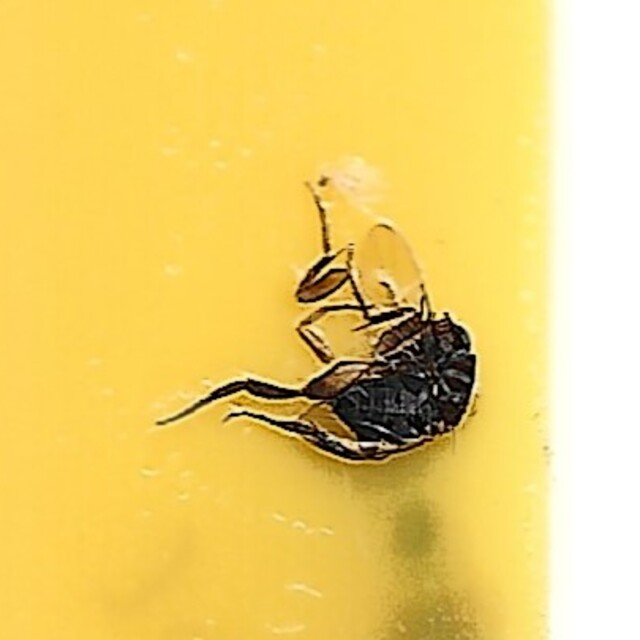Brachycera: (158, 168, 482, 472)
